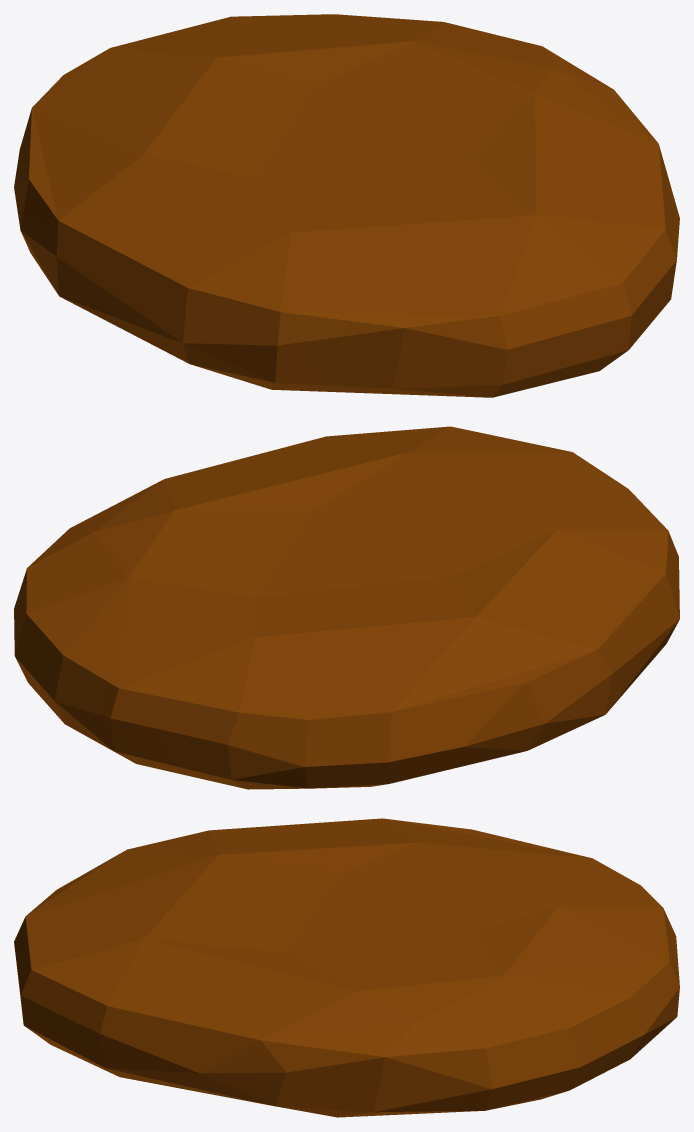
File: steak-transformed.glb
The picture shows the model from 3 angles, top to bottom: view 1: azimuth 30°, elevation 25°; view 2: azimuth 150°, elevation 25°; view 3: azimuth 270°, elevation 25°; orthographic projection. The views are drawn at different scales.
Visible parts, largest first — view 1: steak; view 2: steak; view 3: steak.
Part boxes in pixels (<box>): steak: <box>14,14,679,397</box>; steak: <box>14,426,679,789</box>; steak: <box>14,818,679,1117</box>.
Bounding box in the file's own units: 1.29 × 0.2872 × 1.53.
